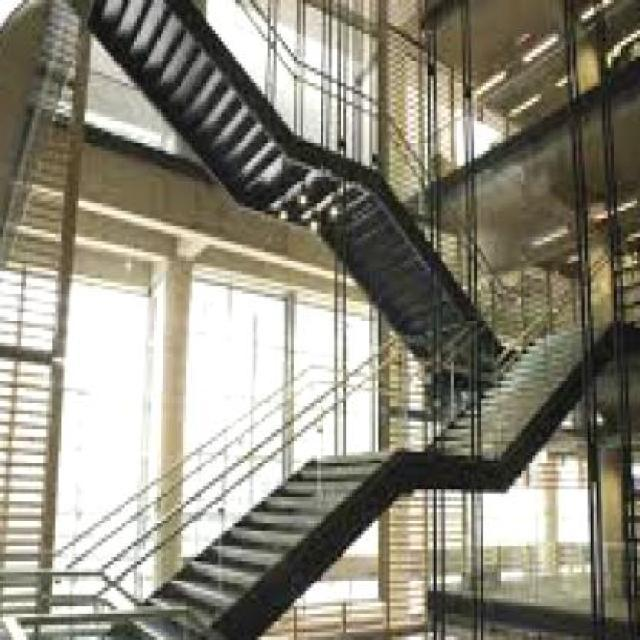stair: (55, 282, 623, 636)
